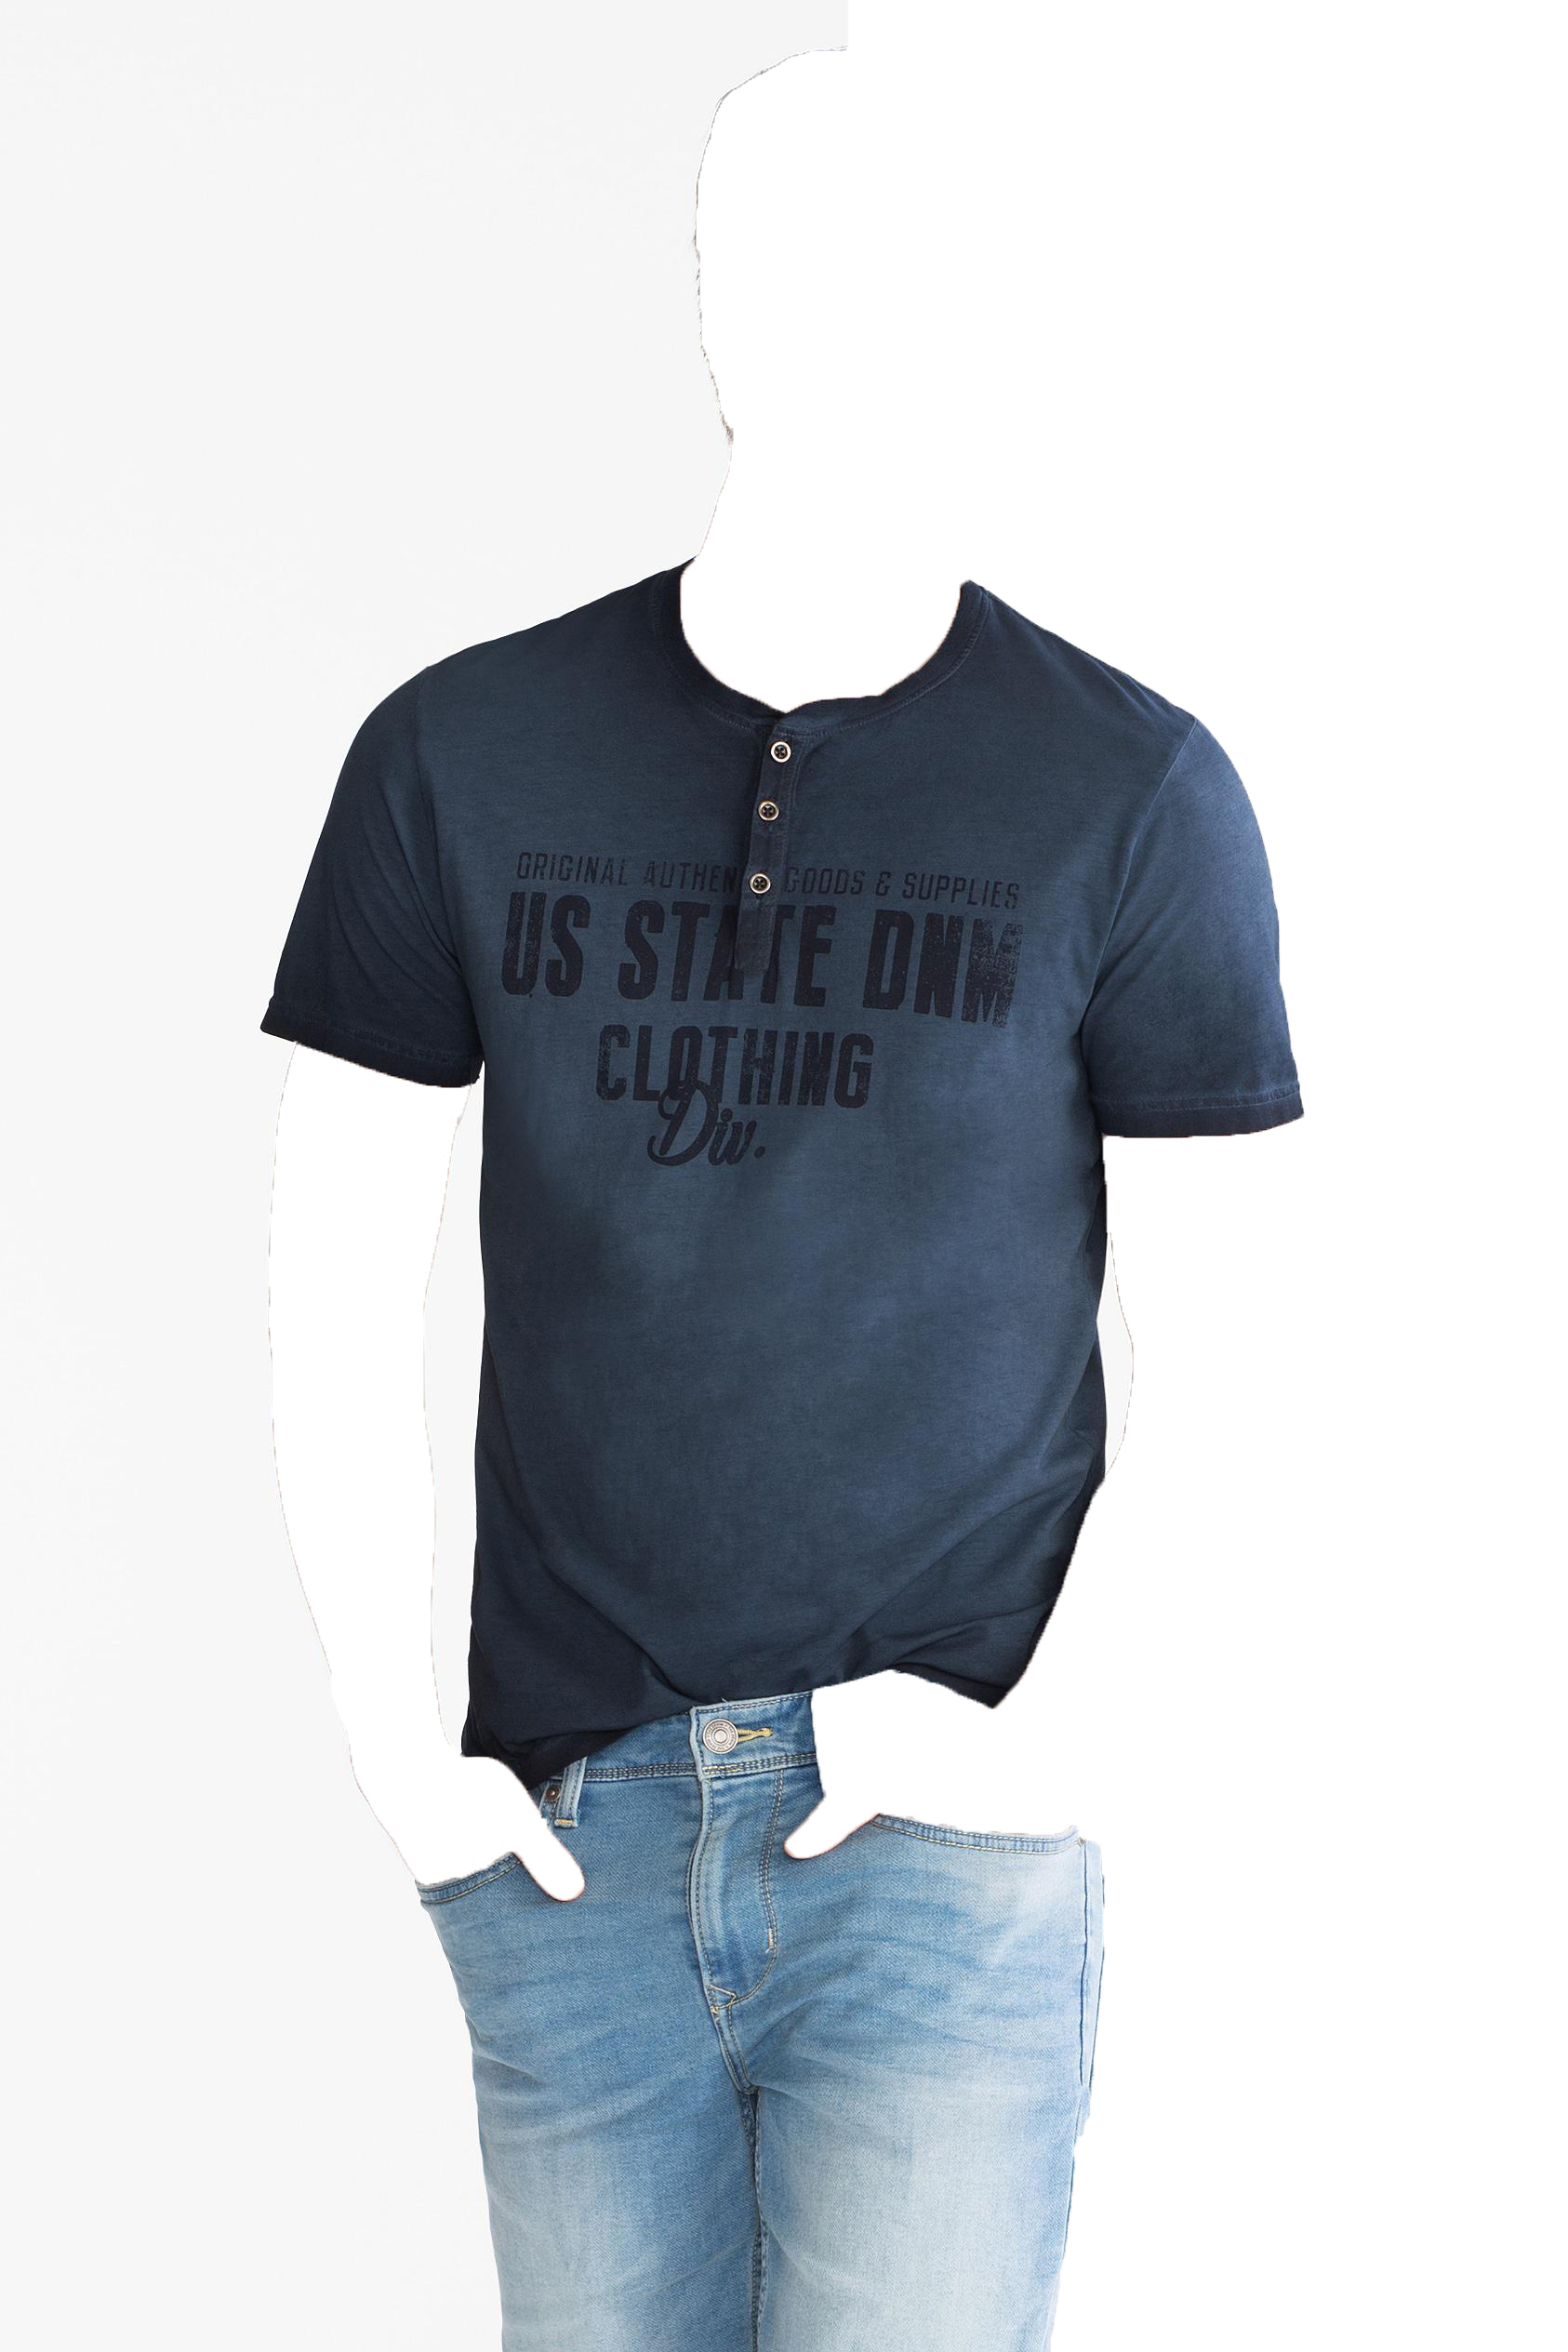teeshirt: (268, 549, 1304, 1869)
